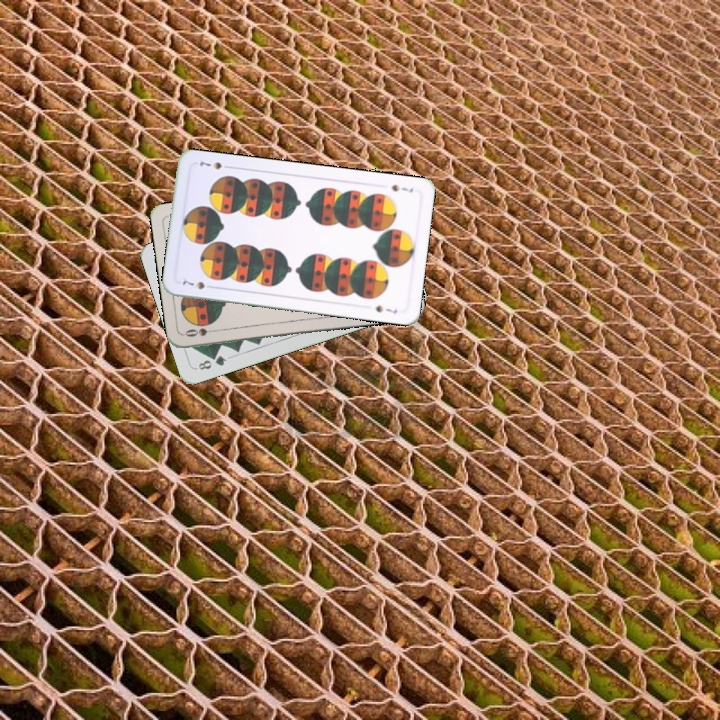G8: (194, 351, 229, 373)
S7: (178, 276, 217, 292), (387, 180, 416, 195)
SO: (181, 324, 221, 339)
